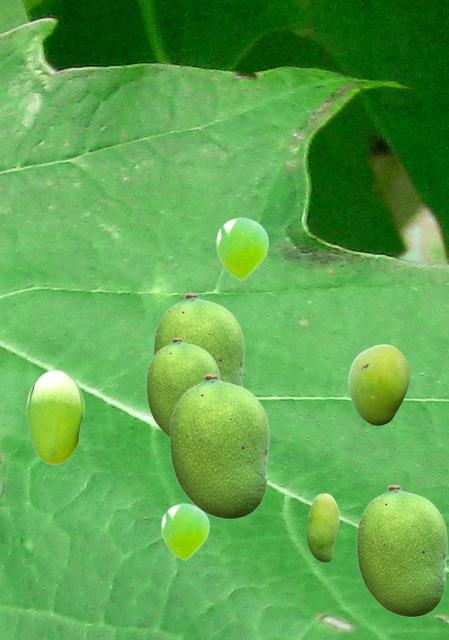green_mango: (169, 373, 268, 518), (356, 484, 446, 616), (153, 292, 243, 385), (146, 337, 219, 437), (26, 369, 83, 463), (348, 344, 408, 424), (216, 217, 267, 279), (161, 503, 208, 559), (306, 493, 338, 561)
